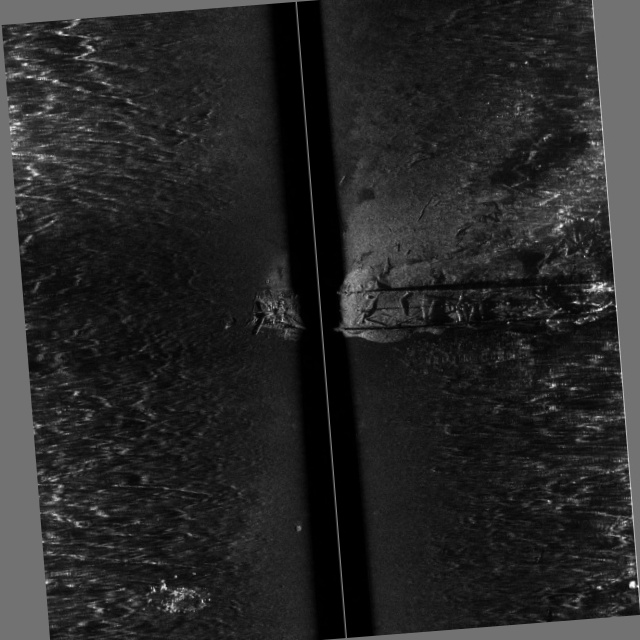Shipwreck: (230, 142, 615, 344)
